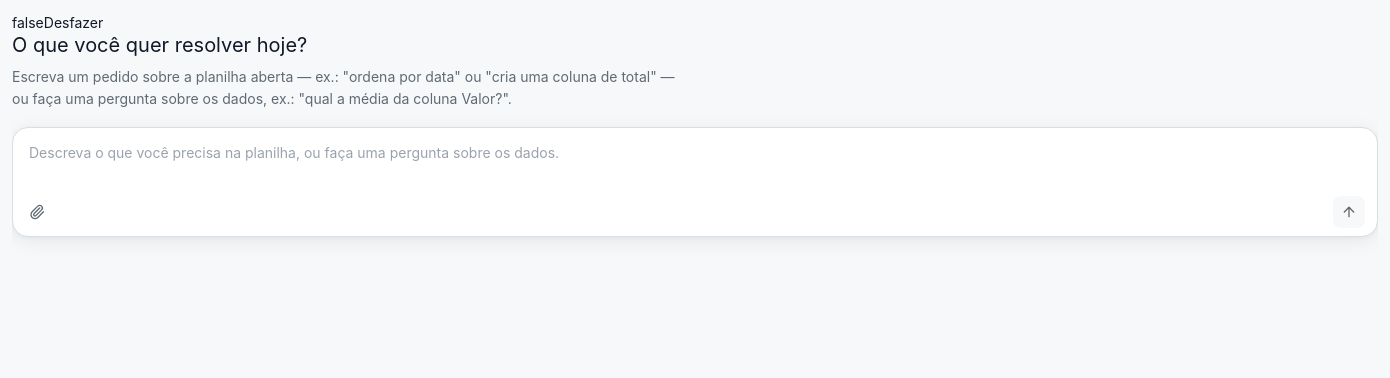
Test: UnifiedChatTool › corrupt NDJSON enters the error state
The width and height of the screenshot is (1390, 378).
In the text box named "Pedido": (695, 158) [13, 128, 1377, 188], type "Some a coluna A"
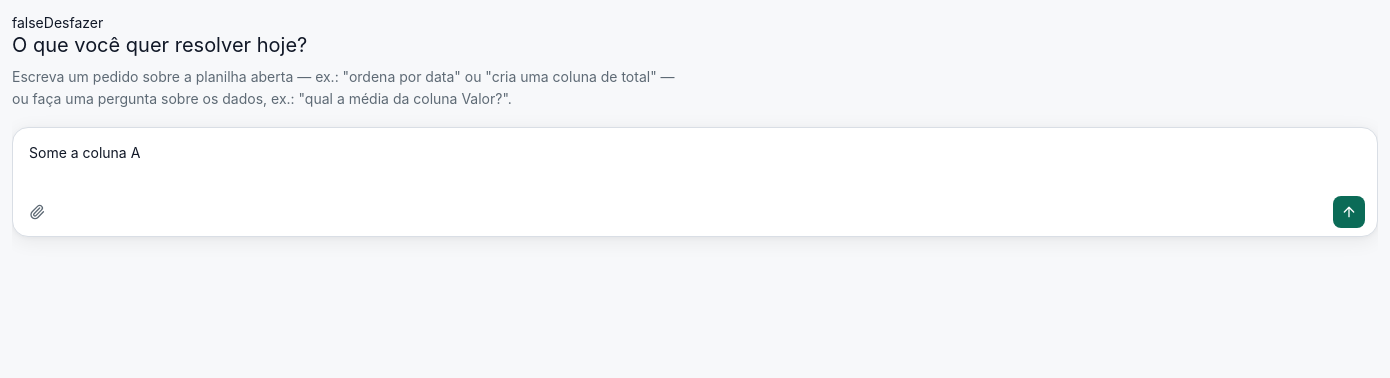
Click the button named "Enviar": (1349, 212) [1333, 196, 1365, 228]
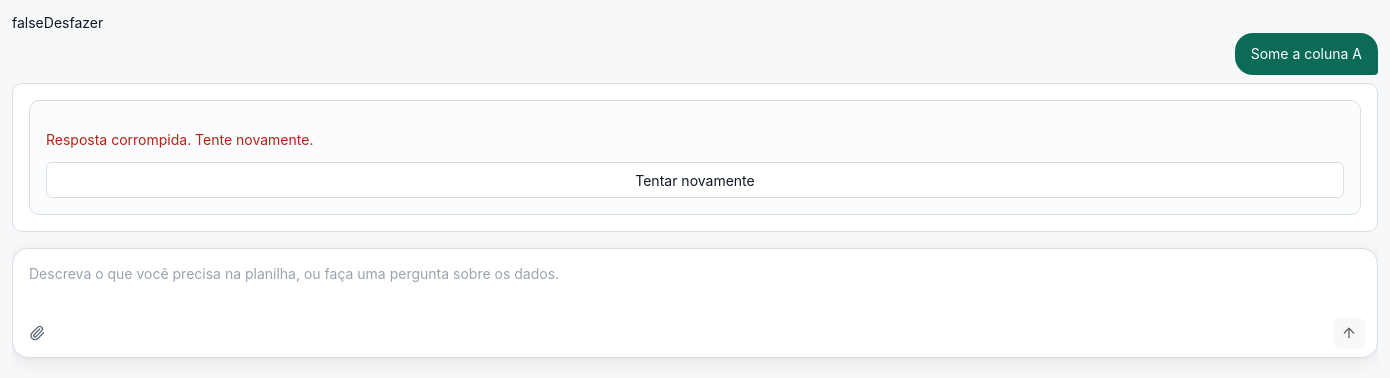
Expected: the text "Resposta corrompida. Tente novamente." is shown, [46, 131, 313, 148]
